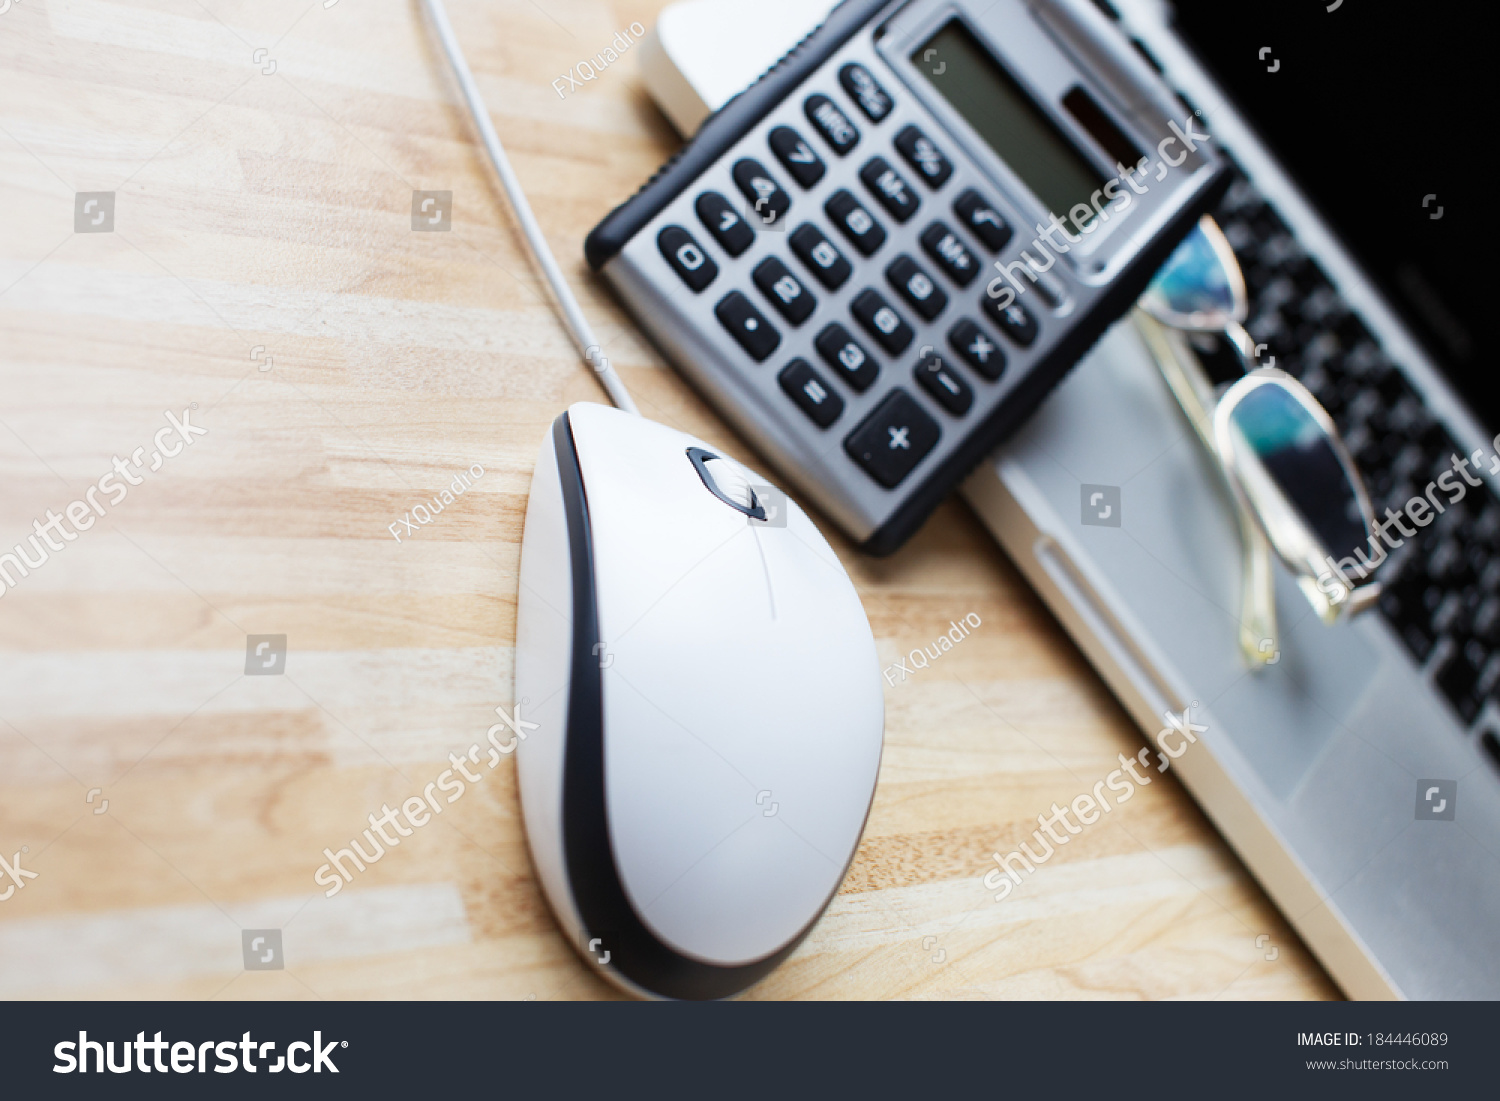Calculator: (569, 1, 1237, 546)
